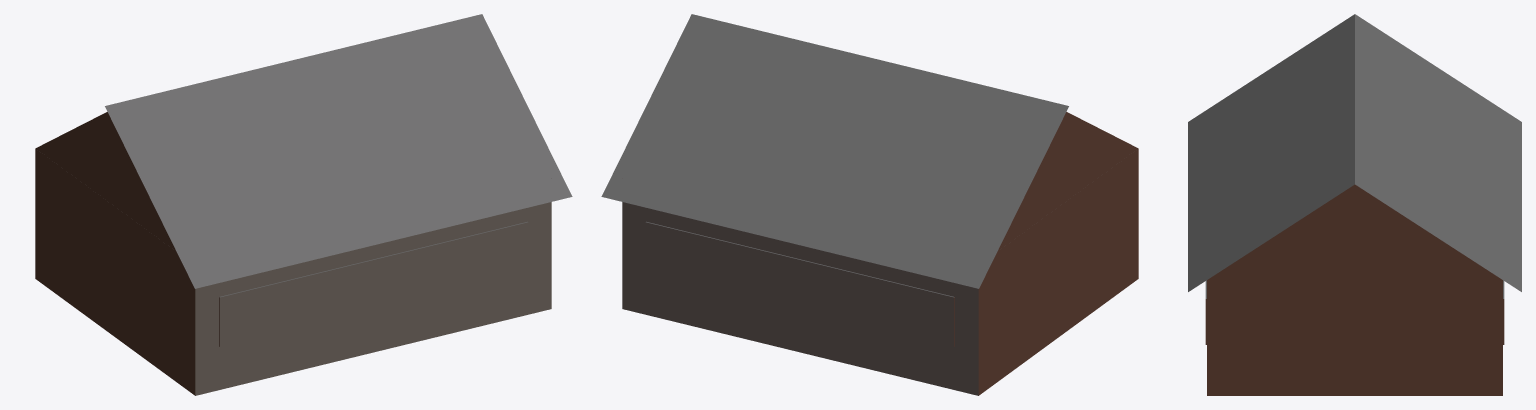
File: cottage-wood.far-facades-v2.lod2.glb
3 views of the same model, side by side, from view 1: azimuth 30°, elevation 25°; view 2: azimuth 150°, elevation 25°; view 3: azimuth 270°, elevation 25° (orthographic). The views are drawn at different scales.
Visible parts, largest first — view 1: cottage-wood; view 2: cottage-wood; view 3: cottage-wood.
Part boxes in pixels (x1,y1,x2,y2): cottage-wood: [35, 14, 572, 395]; cottage-wood: [601, 14, 1138, 395]; cottage-wood: [1188, 14, 1521, 395].
Bounding box in the file's own units: 9.54 × 5.65 × 7.9.
